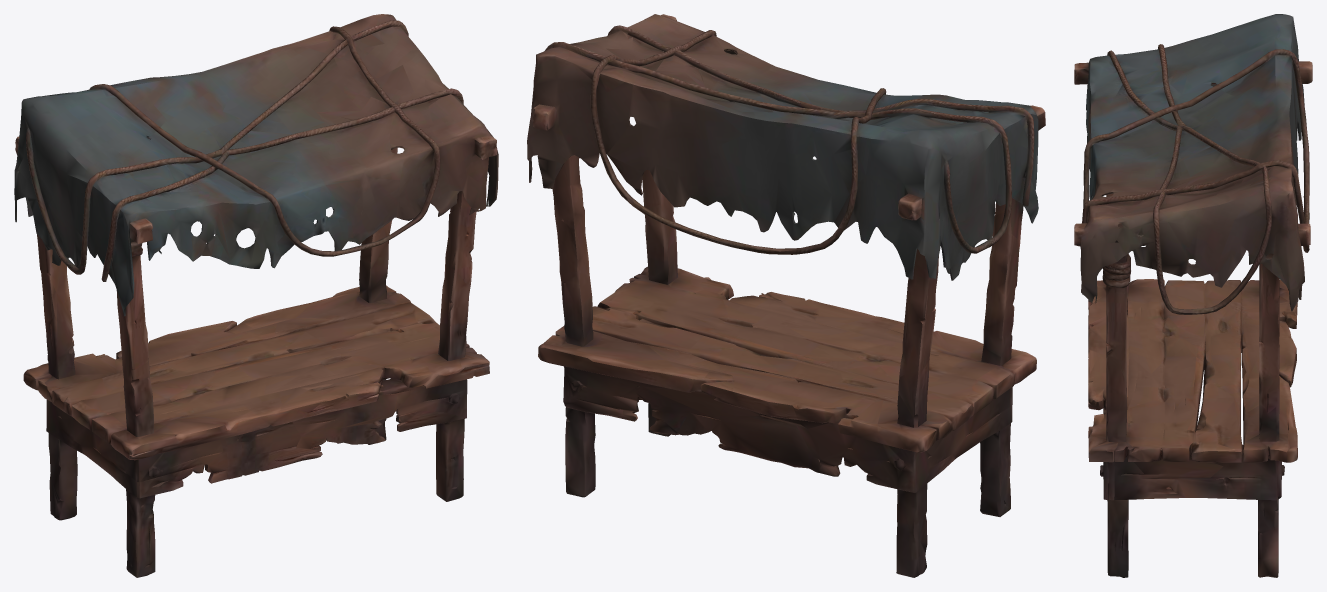
Rendered from market_stall_idle.glb.
3 renders of one model, left to right at view 1: azimuth 30°, elevation 25°; view 2: azimuth 150°, elevation 25°; view 3: azimuth 270°, elevation 25°, orthographic. The views are drawn at different scales.
Visible parts, largest first — view 1: tripo_node_a417cd51-2388-4fd2-a445-cf10a4d978dd; view 2: tripo_node_a417cd51-2388-4fd2-a445-cf10a4d978dd; view 3: tripo_node_a417cd51-2388-4fd2-a445-cf10a4d978dd.
Boxes of the visible parts, x1,y1,x2,y2 form: tripo_node_a417cd51-2388-4fd2-a445-cf10a4d978dd: (14, 14, 498, 577); tripo_node_a417cd51-2388-4fd2-a445-cf10a4d978dd: (527, 14, 1045, 577); tripo_node_a417cd51-2388-4fd2-a445-cf10a4d978dd: (1074, 14, 1312, 577).
Size of the model in its own units: 2.2 by 2.3 by 1.23.
1 material, 1 textured.
